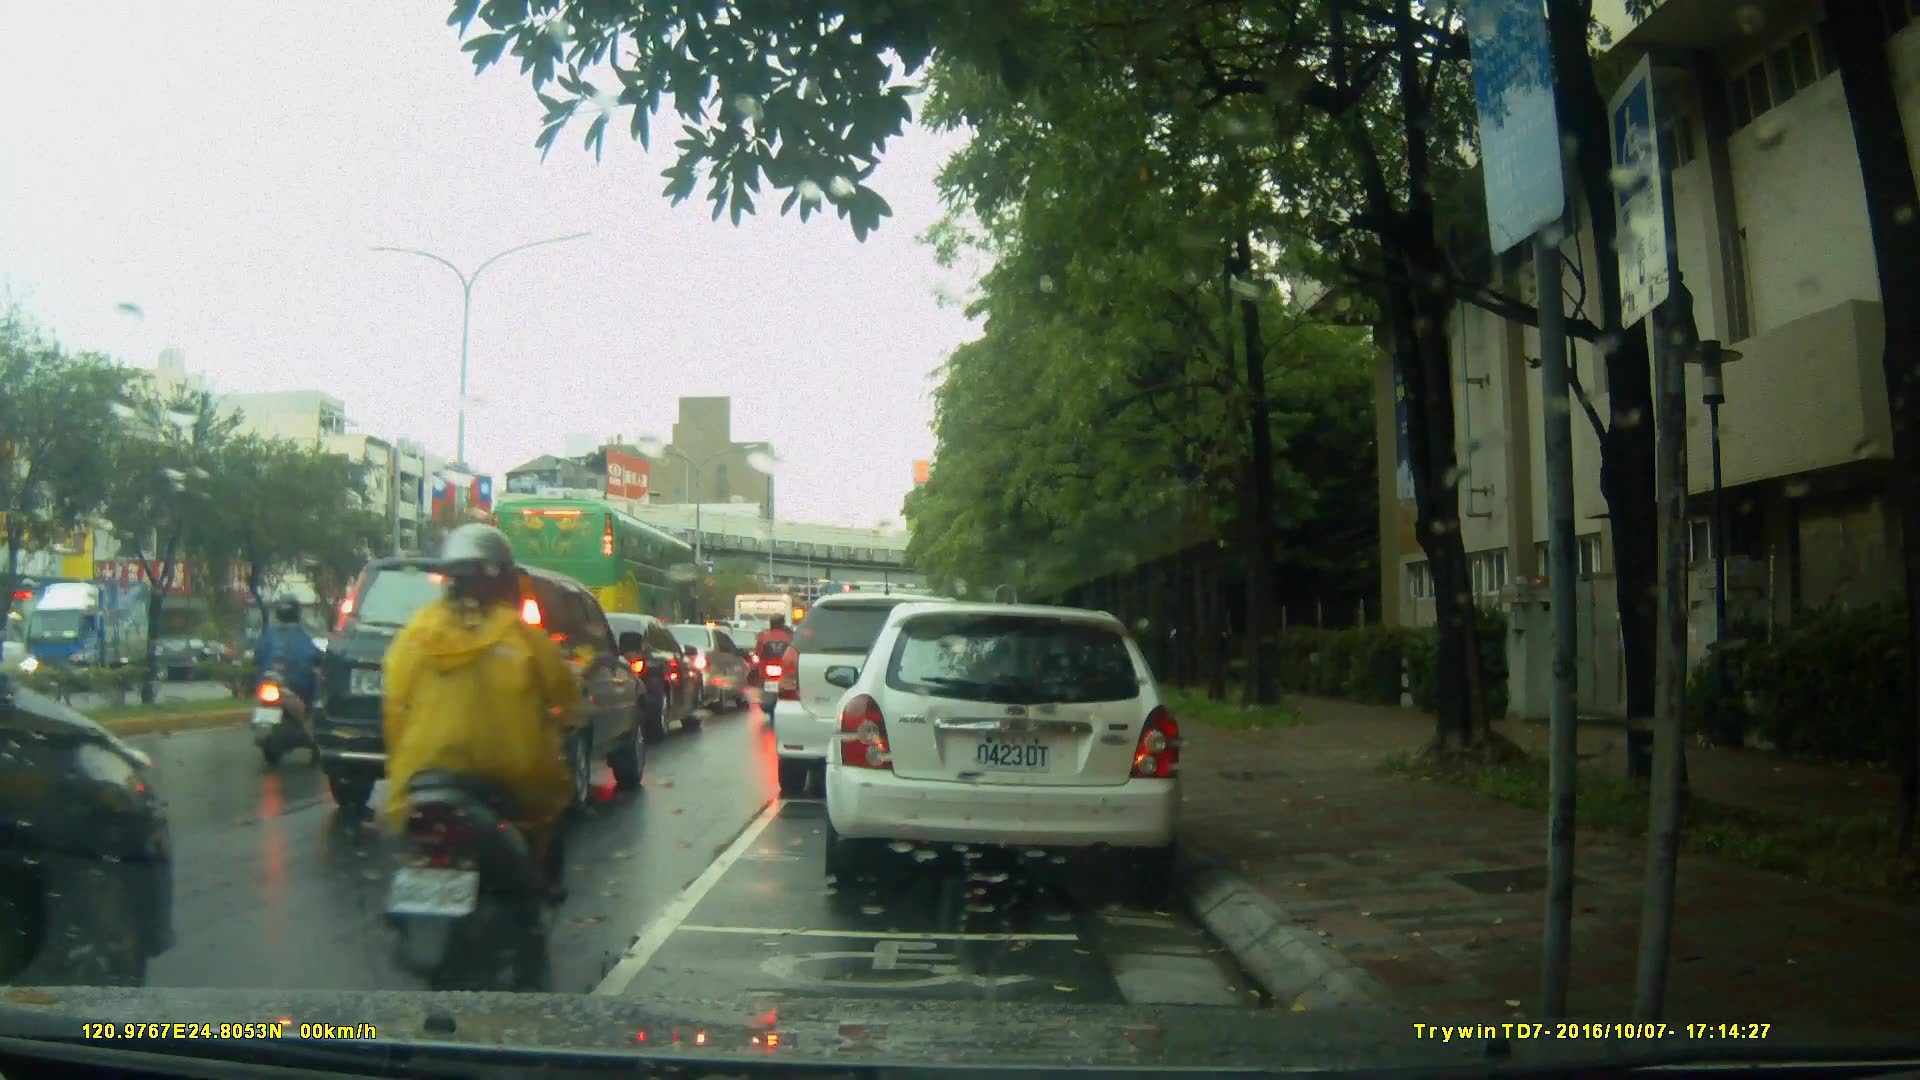rider: (367, 523, 592, 985), (251, 598, 340, 769), (750, 612, 801, 720)
vehicle: (831, 592, 1196, 897), (328, 554, 627, 818), (770, 592, 999, 801), (491, 495, 705, 659), (519, 611, 704, 745), (22, 576, 164, 684), (634, 623, 755, 716)
